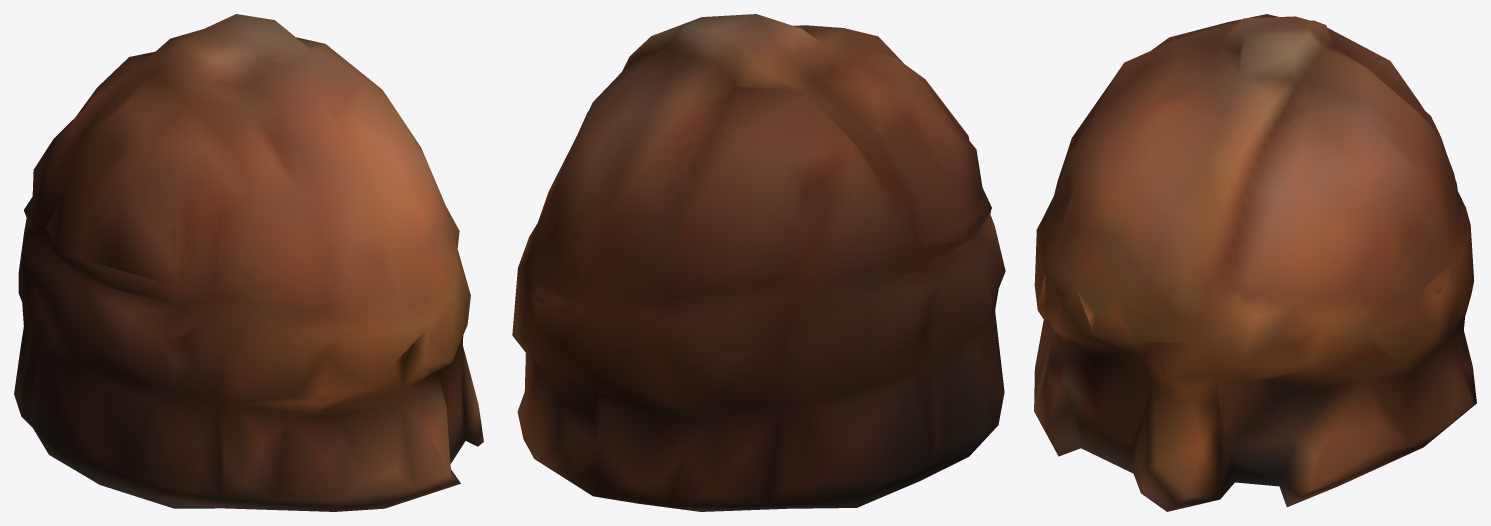
The model's file is helm_copper.glb.
3 renders of one model, left to right at view 1: azimuth 30°, elevation 25°; view 2: azimuth 150°, elevation 25°; view 3: azimuth 270°, elevation 25°, orthographic. The views are drawn at different scales.
Visible parts, largest first — view 1: model; view 2: model; view 3: model.
Boxes of the visible parts, box(x1,y1,x2,y2) form: model: box(14, 14, 483, 511); model: box(512, 14, 1005, 511); model: box(1034, 14, 1476, 511).
Bounding box in the file's own units: 0.3941 × 0.3897 × 0.3956.
Materials: 1 (1 with a texture image).
